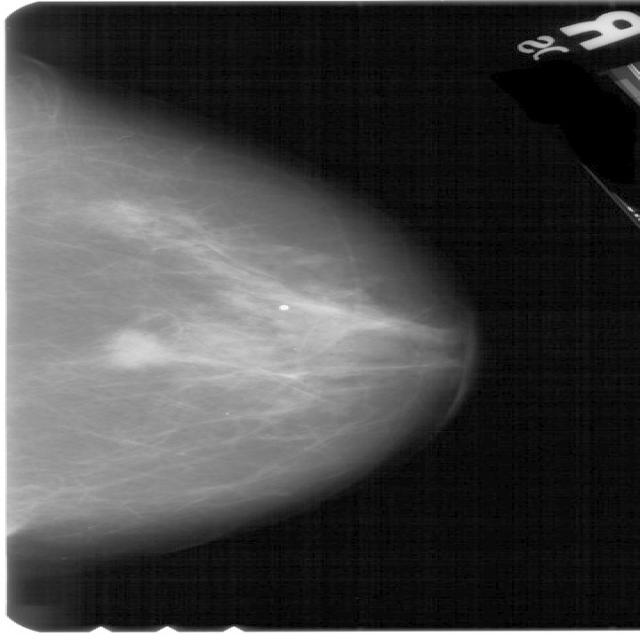tumour: (103, 328, 167, 368)
